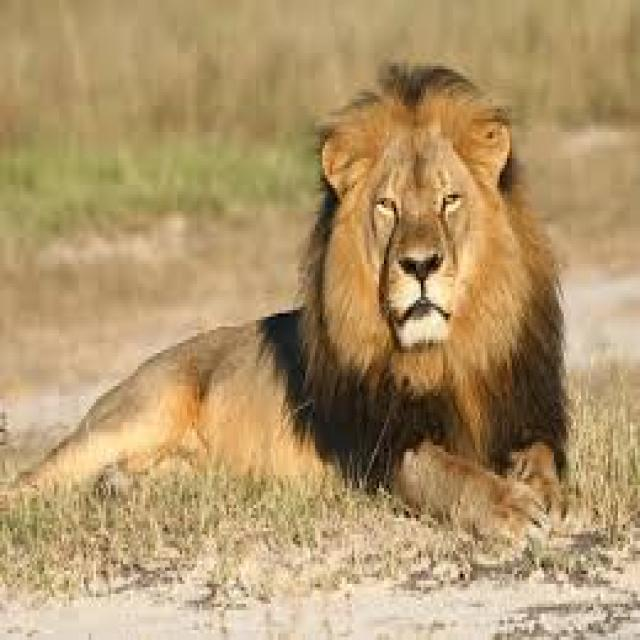Lion: (0, 66, 581, 560)
